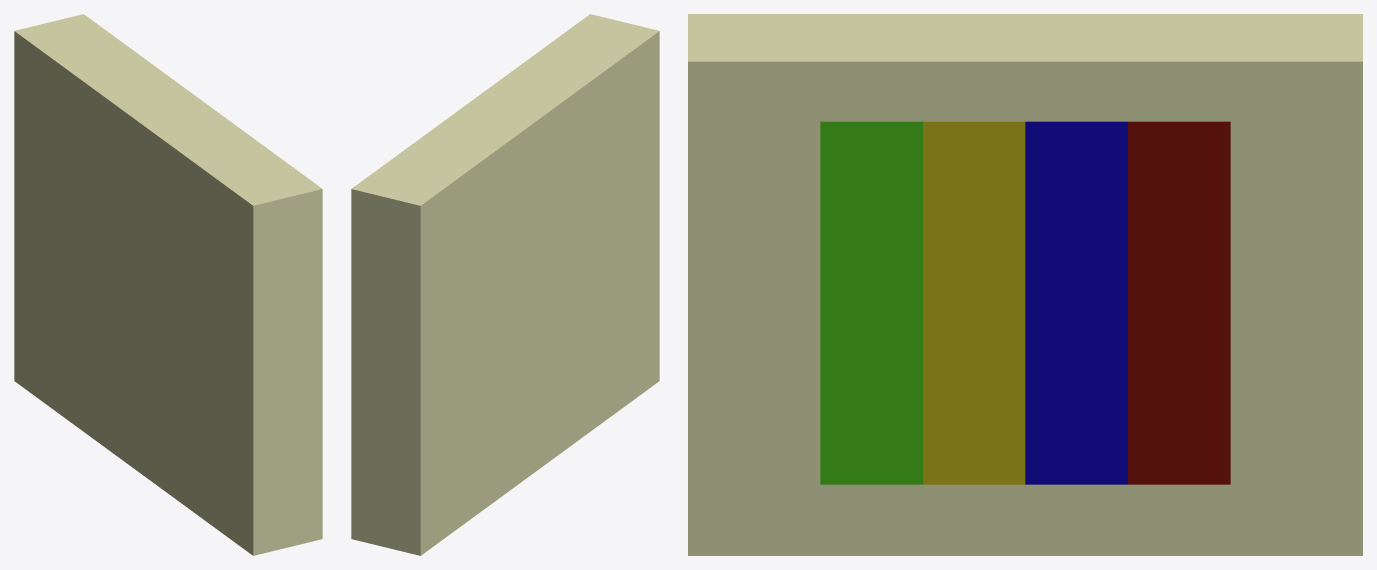
Rendered from PaperBooks.fbx.
3 renders of one model, left to right at view 1: azimuth 30°, elevation 25°; view 2: azimuth 150°, elevation 25°; view 3: azimuth 270°, elevation 25°, orthographic. The views are drawn at different scales.
Visible parts, largest first — view 1: Box001; view 2: Box001; view 3: Box001.
Boxes of the visible parts, x1=… form: Box001: x1=14, y1=14, x2=322, y2=555; Box001: x1=351, y1=14, x2=659, y2=555; Box001: x1=688, y1=14, x2=1362, y2=555.
Bounding box in the file's own units: 7.42 × 35.76 × 44.25.
